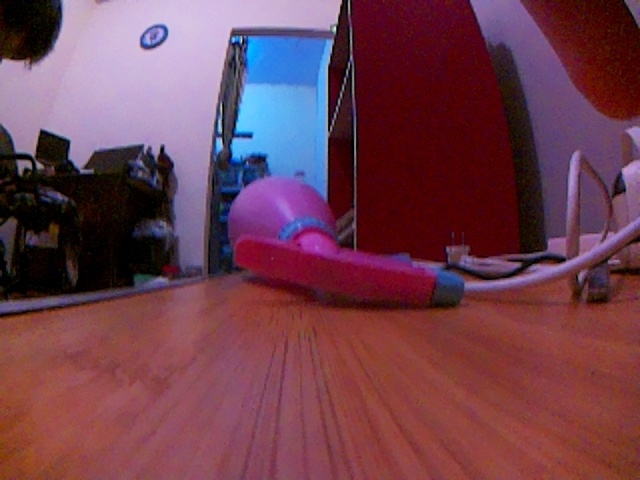korban: (227, 175, 468, 322)
